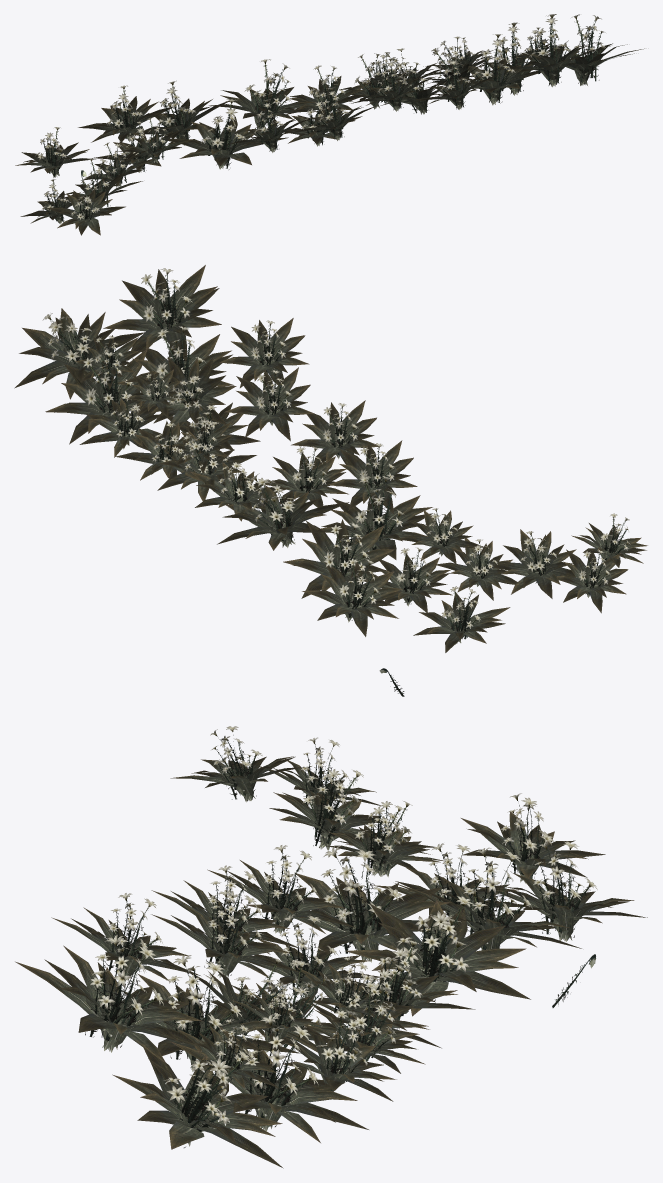
Rendered from grass24.fbx.
3 renders of one model, top to bottom at view 1: azimuth 30°, elevation 25°; view 2: azimuth 150°, elevation 25°; view 3: azimuth 270°, elevation 25°, orthographic. The views are drawn at different scales.
Parts seen in each view (by area): view 1: m121212_1; view 2: m121212_1; view 3: m121212_1.
Part boxes in pixels (x1,y1,x2,y2): m121212_1: (15,14,644,235); m121212_1: (14,265,647,696); m121212_1: (15,726,647,1168).
Size of the model in its own units: 62099 by 21105 by 34191.
Materials: 1 (1 with a texture image).
